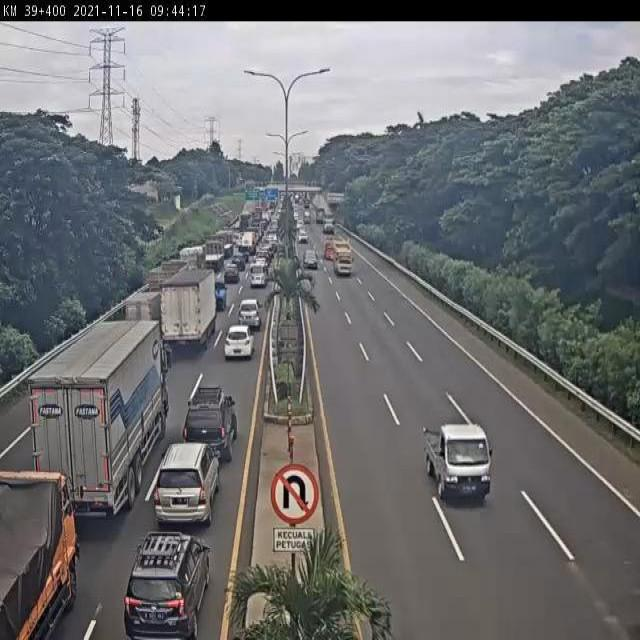car: (123, 533, 209, 640), (424, 424, 494, 507), (159, 439, 213, 521), (187, 388, 237, 449), (224, 322, 254, 358), (236, 298, 261, 330), (303, 244, 320, 273), (249, 262, 266, 286), (232, 252, 247, 272), (254, 250, 270, 266), (225, 264, 238, 283), (299, 228, 309, 244), (303, 211, 311, 224), (297, 219, 303, 229), (293, 211, 299, 220)
small truck: (124, 289, 166, 351), (334, 237, 356, 279), (322, 214, 335, 234), (325, 235, 335, 260), (315, 208, 325, 221)
truck-l-: (26, 317, 174, 515), (203, 240, 224, 271), (215, 231, 234, 253)
truck-m-: (0, 468, 73, 640), (162, 263, 215, 352)
